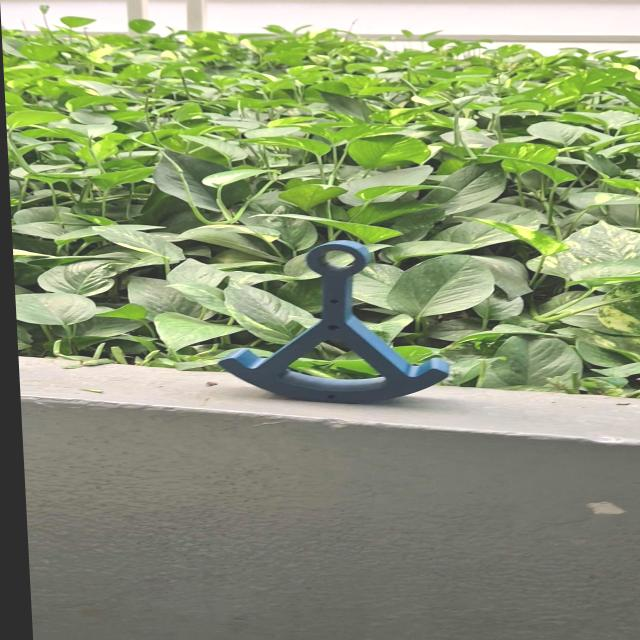haptic: (210, 239, 453, 405)
